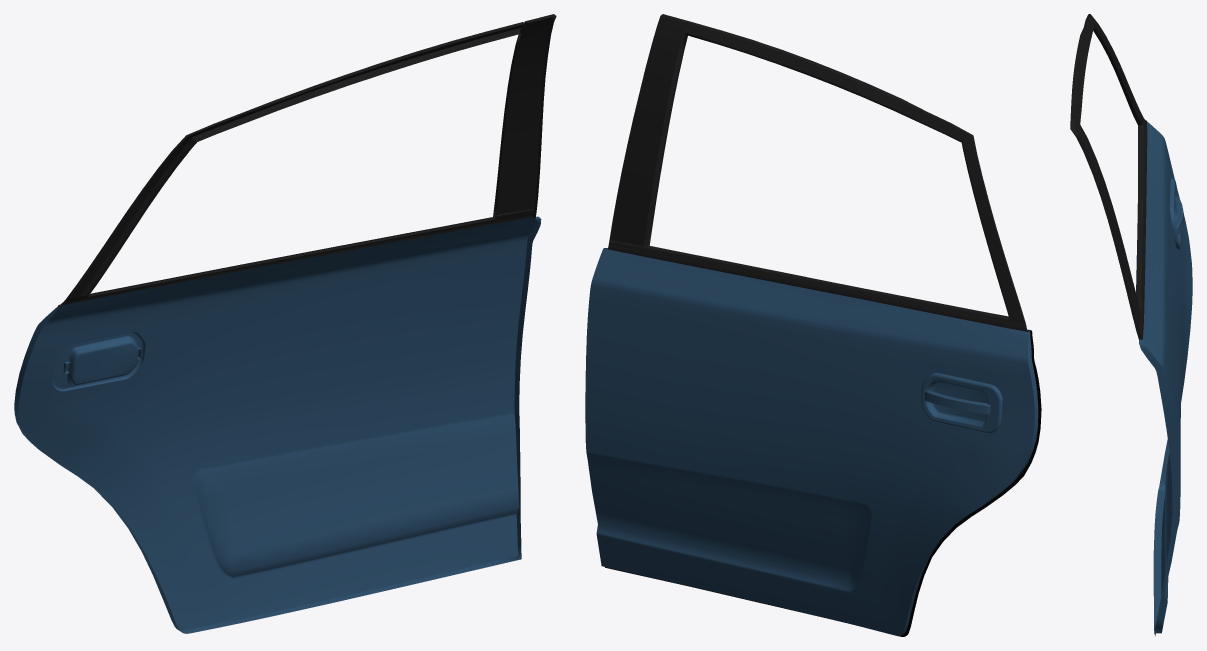
3 renders of one model, left to right at view 1: azimuth 30°, elevation 25°; view 2: azimuth 150°, elevation 25°; view 3: azimuth 270°, elevation 25°, orthographic. The views are drawn at different scales.
Visible parts, largest first — view 1: Y191_13_301B_L_Y191_13_301B_L_1_DaS, Y191_13_301B_L_Y191_13_301B_L_1_DaS_E, Y191_13_301B_L_Y191_13_301B_L_2_D; view 2: Y191_13_301B_L_Y191_13_301B_L_1_DaS, Y191_13_301B_L_Y191_13_301B_L_1_DaS_E, Y191_13_301B_L_Y191_13_301B_L_2_D, Y191_13_301B_L_Y191_13_301B_L_3_D, Y191_13_301B_L_4_DaS_Y191_13_301B_L; view 3: Y191_13_301B_L_Y191_13_301B_L_1_DaS, Y191_13_301B_L_Y191_13_301B_L_2_D, Y191_13_301B_L_Y191_13_301B_L_1_DaS_E, Y191_13_301B_L_4_DaS_Y191_13_301B_L.
Part boxes in pixels (x1,y1,x2,y2): Y191_13_301B_L_Y191_13_301B_L_1_DaS: [18, 217, 537, 630]; Y191_13_301B_L_Y191_13_301B_L_1_DaS_E: [14, 216, 541, 633]; Y191_13_301B_L_Y191_13_301B_L_2_D: [58, 14, 556, 307]; Y191_13_301B_L_Y191_13_301B_L_1_DaS: [585, 248, 1034, 636]; Y191_13_301B_L_Y191_13_301B_L_1_DaS_E: [586, 248, 1038, 634]; Y191_13_301B_L_Y191_13_301B_L_2_D: [608, 14, 1029, 331]; Y191_13_301B_L_Y191_13_301B_L_3_D: [605, 330, 1041, 636]; Y191_13_301B_L_4_DaS_Y191_13_301B_L: [924, 390, 990, 414]; Y191_13_301B_L_Y191_13_301B_L_1_DaS: [1143, 121, 1192, 601]; Y191_13_301B_L_Y191_13_301B_L_2_D: [1070, 14, 1147, 339]; Y191_13_301B_L_Y191_13_301B_L_1_DaS_E: [1139, 178, 1181, 633]; Y191_13_301B_L_4_DaS_Y191_13_301B_L: [1175, 195, 1184, 235].
Size of the model in its own units: 99.4 by 110 by 24.29.
